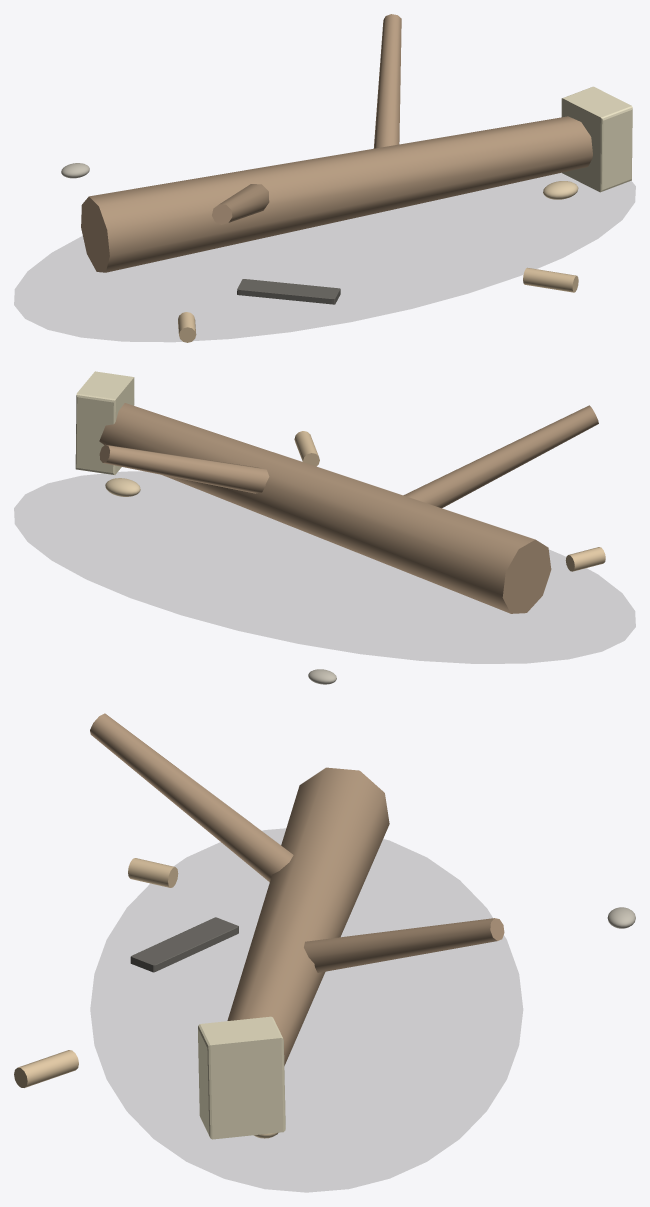
The model's file is deadwood.glb.
The picture shows the model from 3 angles, top to bottom: view 1: azimuth 30°, elevation 25°; view 2: azimuth 150°, elevation 25°; view 3: azimuth 270°, elevation 25°; orthographic projection. The views are drawn at different scales.
Parts seen in each view (by area): view 1: painted_contact_shadow, fallen_trunk, fresh_cut_light_side, broken_side_branch_b, loose_scrap_flake_3, broken_side_branch_a, discarded_bolt_detail_4, ground_pebble_detail_1, discarded_bolt_detail_0; view 2: painted_contact_shadow, fallen_trunk, broken_side_branch_a, fresh_cut_light_side, broken_side_branch_b, discarded_bolt_detail_0, discarded_bolt_detail_4, ground_pebble_detail_1; view 3: painted_contact_shadow, fallen_trunk, fresh_cut_light_side, broken_side_branch_a, broken_side_branch_b, loose_scrap_flake_3, discarded_bolt_detail_4, discarded_bolt_detail_0.
Boxes of the visible parts, x1,y1,x2,y2 form: painted_contact_shadow: (14, 173, 635, 341); fallen_trunk: (81, 116, 592, 272); fresh_cut_light_side: (561, 86, 632, 192); broken_side_branch_b: (373, 14, 401, 148); loose_scrap_flake_3: (237, 279, 340, 304); broken_side_branch_a: (212, 184, 269, 224); discarded_bolt_detail_4: (523, 267, 578, 292); ground_pebble_detail_1: (543, 181, 578, 199); discarded_bolt_detail_0: (178, 312, 196, 342); painted_contact_shadow: (14, 472, 635, 663); fallen_trunk: (99, 403, 551, 613); broken_side_branch_a: (403, 405, 598, 508); fresh_cut_light_side: (75, 371, 134, 474); broken_side_branch_b: (99, 444, 269, 493); discarded_bolt_detail_0: (565, 547, 605, 571); discarded_bolt_detail_4: (294, 431, 319, 466); ground_pebble_detail_1: (105, 478, 140, 496); painted_contact_shadow: (91, 829, 522, 1191); fallen_trunk: (227, 767, 389, 1065); fresh_cut_light_side: (198, 1016, 285, 1139); broken_side_branch_a: (90, 713, 293, 882); broken_side_branch_b: (304, 918, 504, 972); loose_scrap_flake_3: (130, 917, 238, 972); discarded_bolt_detail_4: (14, 1050, 78, 1087); discarded_bolt_detail_0: (128, 858, 178, 887).
Size of the model in its own units: 2 by 0.465 by 1.44.
